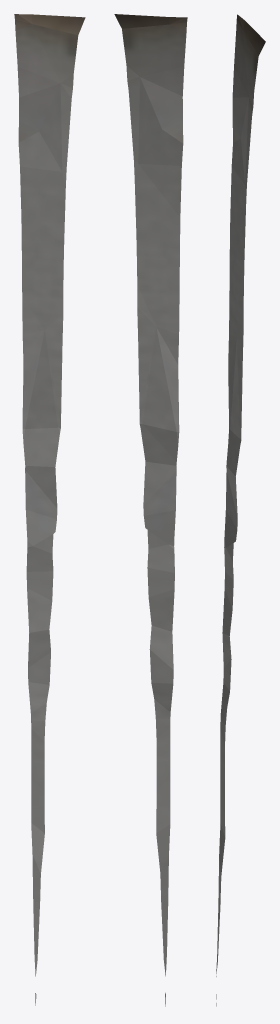
3 views of the same model, side by side, from view 1: azimuth 30°, elevation 25°; view 2: azimuth 210°, elevation 25°; view 3: azimuth 330°, elevation 25° (orthographic). The views are drawn at different scales.
Bounding box in the file's own units: 0.0412 × 0.772 × 0.0304.
Materials: 1 (1 with a texture image).
